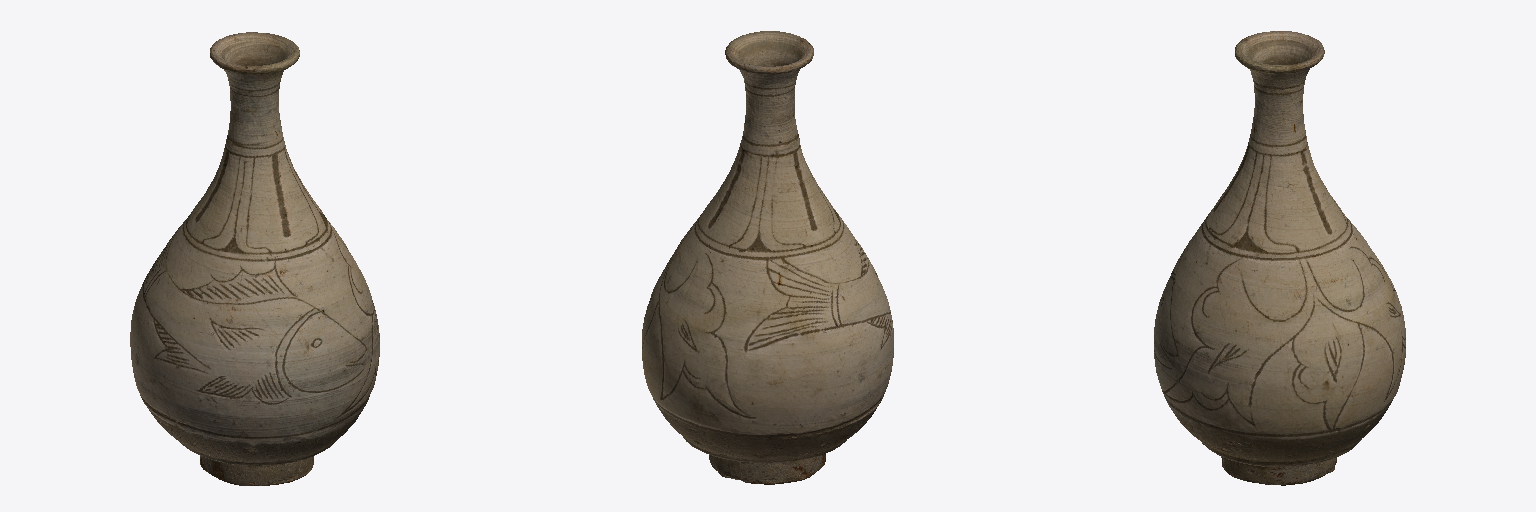
3 renders of one model, left to right at view 1: azimuth 30°, elevation 25°; view 2: azimuth 150°, elevation 25°; view 3: azimuth 270°, elevation 25°, orthographic.
Parts seen in each view (by area): view 1: Object_2_Object_0; view 2: Object_2_Object_0; view 3: Object_2_Object_0.
Part boxes in pixels (left/top/right/bottom): Object_2_Object_0: left=130, top=32, right=379, bottom=485; Object_2_Object_0: left=642, top=31, right=893, bottom=484; Object_2_Object_0: left=1154, top=31, right=1405, bottom=485.
Size of the model in its own units: 0.1677 by 0.3066 by 0.1691.
Materials: 1 (1 with a texture image).